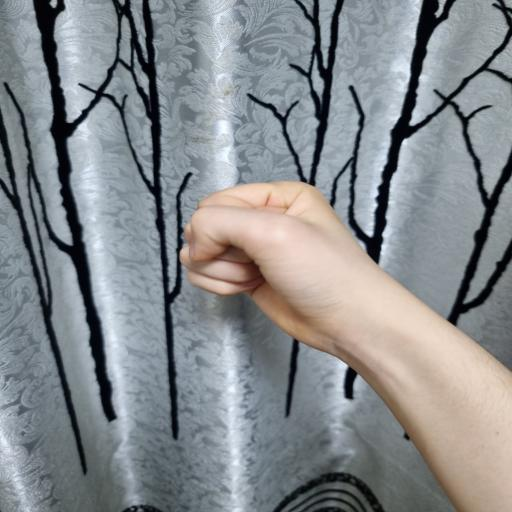Rock: (179, 181, 415, 364)
